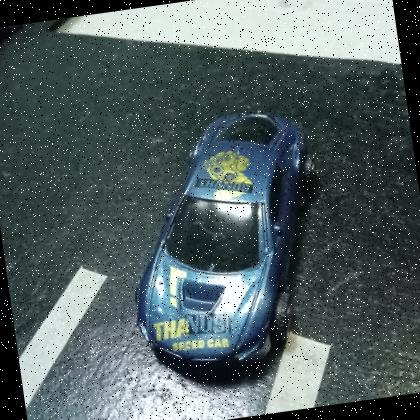Car: (136, 112, 310, 381)
